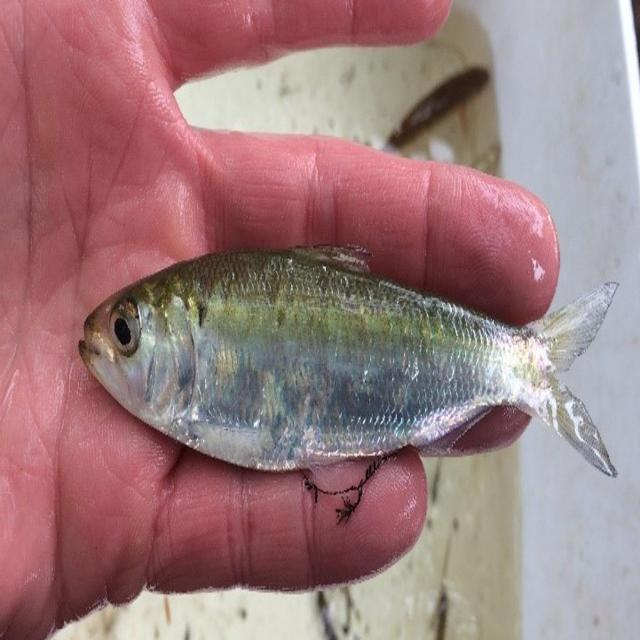Shad - American: (80, 249, 616, 475)
